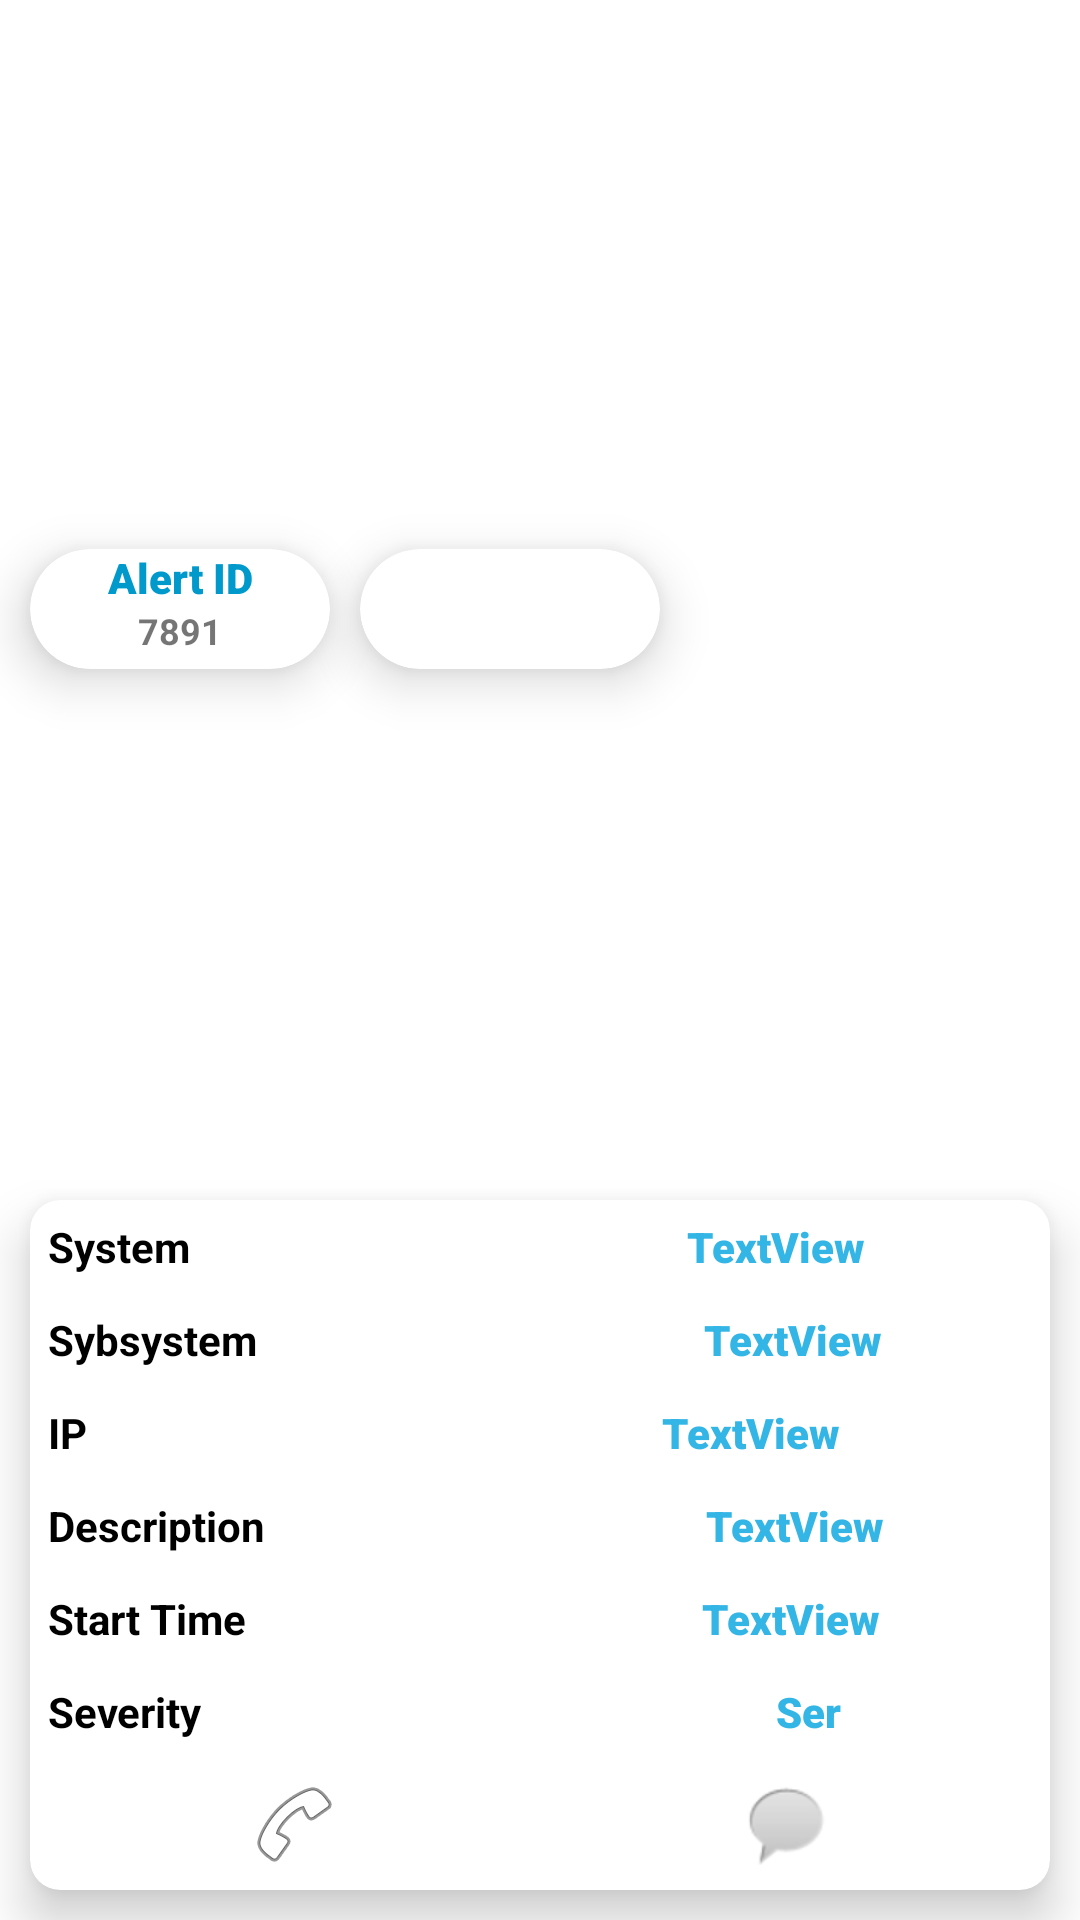

Screen size 1080px×1920px. Icon name, then its box in pixels as [x1, y1, x2, y2]:
call: [257, 1787, 332, 1862]
sym action chat: [749, 1788, 822, 1863]
